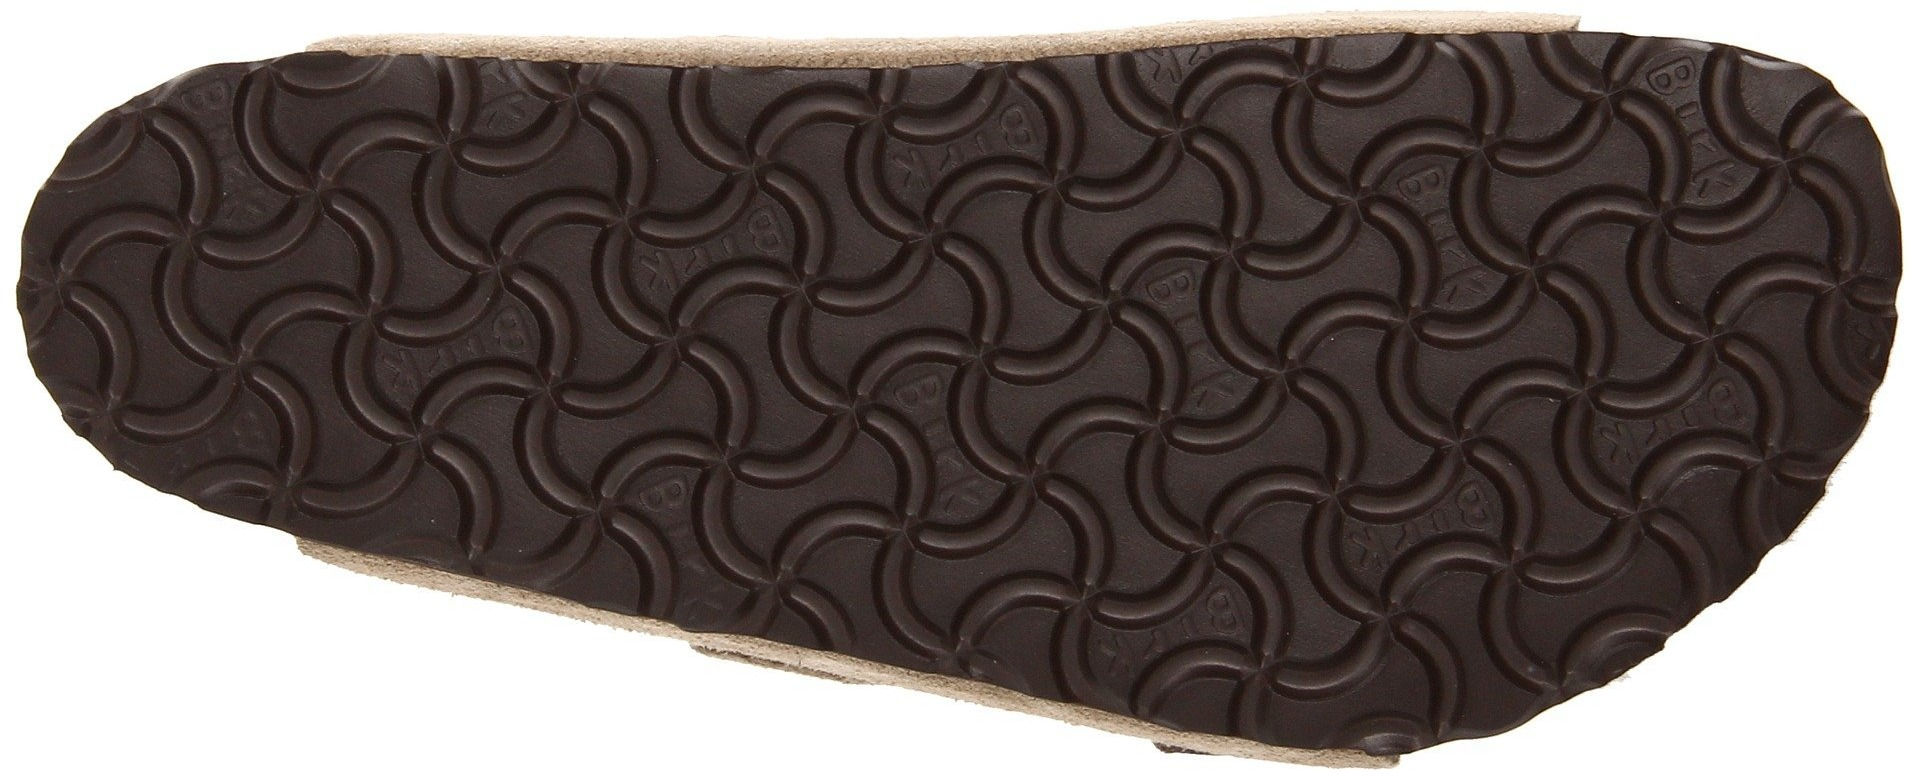bowtie: (866, 341, 1171, 649), (337, 84, 629, 351), (1174, 56, 1453, 325), (1176, 341, 1469, 585), (577, 362, 844, 615), (1484, 308, 1768, 541), (906, 78, 1164, 332), (80, 135, 324, 396), (1461, 51, 1709, 296), (647, 95, 890, 325), (342, 361, 551, 551), (1722, 115, 1884, 273), (1201, 604, 1330, 733)
